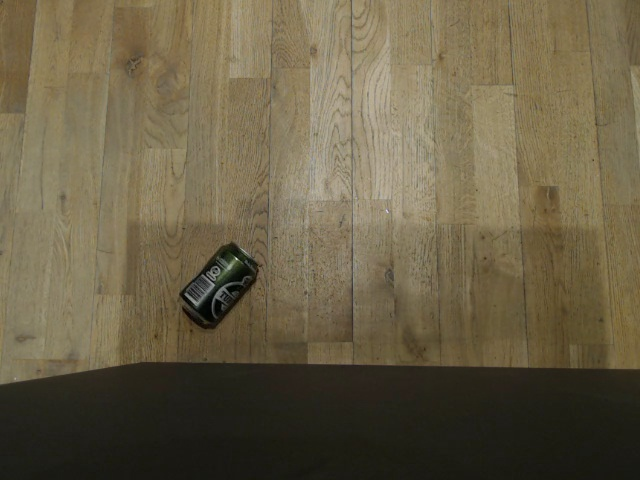beer: (172, 240, 264, 330)
